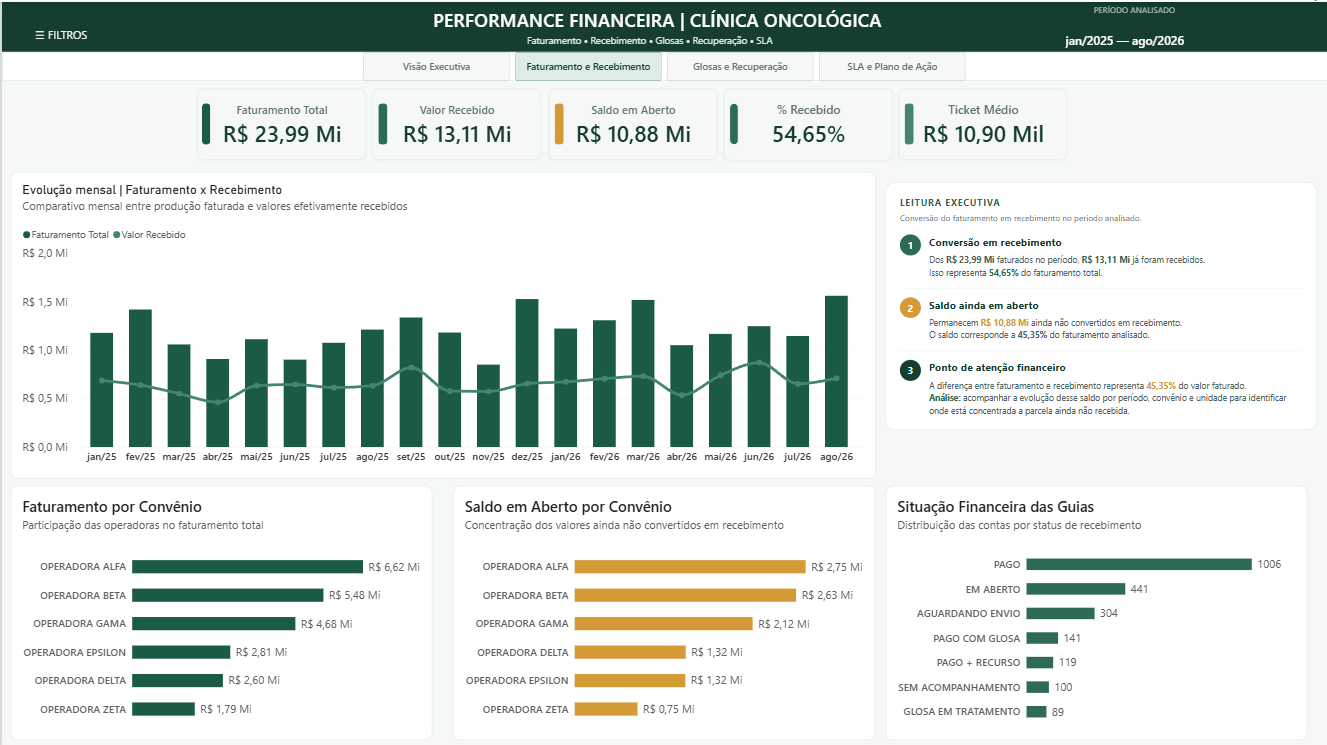

What the dashboard file says about the page in this screenshot:
{"tool":"powerbi","page":{"name":"Faturamento e Recebimento","canvas":[1920,1080],"ordinal":1},"visuals":[{"type":"shape","box":[0,0,2560,72],"z":0,"group":"g1"},{"type":"group","id":"g1","title":"Cabeçalho","box":[0,0,2560,114.4],"z":0},{"type":"cardVisual","fields":{"Data":["00_Medidas.Valor Recebido"]},"box":[536,124.2,245,105.6],"z":0,"group":"g3"},{"type":"cardVisual","fields":{"Data":["00_Medidas.Saldo em Aberto"]},"box":[789.9,124.2,245,105.6],"z":0,"group":"g4"},{"type":"cardVisual","fields":{"Data":["00_Medidas.% Recebido"]},"box":[1043.8,124.2,246.2,106.5],"z":0,"group":"g5"},{"type":"cardVisual","fields":{"Data":["00_Medidas.Ticket Médio"]},"box":[1296.9,124.2,245,105.6],"z":0,"group":"g6"},{"type":"cardVisual","fields":{"Data":["00_Medidas.Faturamento Total"]},"box":[283,125.6,245,105.6],"z":0,"group":"g2"},{"type":"textbox","box":[624.3,7.2,669.6,57.9],"z":1000,"group":"g1"},{"type":"group","id":"g2","title":"Card 1","box":[283,125.6,245,105.6],"z":1000},{"type":"shape","box":[544.5,145.3,13.4,60],"z":1000,"group":"g3"},{"type":"shape","box":[798.4,145.3,13.4,60],"z":1000,"group":"g4"},{"type":"shape","box":[1305.4,145.3,13.4,60],"z":1000,"group":"g6"},{"type":"shape","box":[1052.4,145.5,13.5,60.5],"z":1000,"group":"g5"},{"type":"shape","box":[290.8,146.7,12.2,60],"z":1000,"group":"g2"},{"type":"textbox","box":[760,45.2,399.9,43.4],"z":2000,"group":"g1"},{"type":"group","id":"g3","title":"Card 2","box":[536,124.2,245.8,105.6],"z":2000},{"type":"cardVisual","title":"PERÍODO ANALISADO","fields":{"Data":["00_Medidas.Período Selecionado"]},"box":[1524,4,232,72],"z":3000,"group":"g1"},{"type":"group","id":"g4","title":"Card 3","box":[789.9,124.2,245.8,105.6],"z":3000},{"type":"shape","box":[0,72.4,2560,42],"z":4000,"group":"g1"},{"type":"group","id":"g5","title":"Card 1","box":[1043.8,124.2,245,105.6],"z":4000},{"type":"pageNavigator","box":[523,72.4,874.1,42],"z":5000,"group":"g1"},{"type":"group","id":"g6","title":"Card 1","box":[1296.9,124.2,245,105.6],"z":5000},{"type":"lineClusteredColumnComboChart","title":"Evolução mensal | Faturamento x Recebimento","fields":{"Category":["Dim_Calendario.MesAnoCurto"],"Y":["00_Medidas.Faturamento Total"],"Y2":["00_Medidas.Valor Recebido"]},"box":[12,246,1252,444],"z":6000},{"type":"clusteredBarChart","title":"Faturamento por Convênio","fields":{"Category":["base_analitica_oncologia.NM_CONVENIO_PADRAO"],"Y":["00_Medidas.Faturamento Total"]},"box":[12,700,610,368],"z":7000},{"type":"clusteredBarChart","title":"Saldo em Aberto por Convênio","fields":{"Category":["base_analitica_oncologia.NM_CONVENIO_PADRAO"],"Y":["00_Medidas.Saldo em Aberto"]},"box":[654,700,610,368],"z":8000},{"type":"clusteredBarChart","title":"Situação Financeira das Guias","fields":{"Category":["base_analitica_oncologia.STATUS_FINANCEIRO"],"Y":["Count(base_analitica_oncologia.NR_GUIA)"]},"box":[1280,700,610,368],"z":9000},{"type":"htmlContent443BE3AD55E043BF878BED274D3A6855","fields":{"content":["00_Medidas.HTML_Analise_Faturamento_Recebimento"]},"box":[1264,246,656,444],"z":10000},{"type":"actionButton","box":[24,18,124,58],"z":11000}]}

Visuals, with their boxes in screenshot pixels (x1, y1, x2, y2), scaled from the page's 1920x1080 canvas onto the 1327x745 screenshot:
shape: [left=0, top=0, right=1326, bottom=50]
"Cabeçalho" group: [left=0, top=0, right=1326, bottom=79]
cardVisual - 00_Medidas.Valor Recebido: [left=370, top=86, right=540, bottom=159]
cardVisual - 00_Medidas.Saldo em Aberto: [left=546, top=86, right=715, bottom=159]
cardVisual - 00_Medidas.% Recebido: [left=721, top=86, right=892, bottom=159]
cardVisual - 00_Medidas.Ticket Médio: [left=896, top=86, right=1066, bottom=159]
cardVisual - 00_Medidas.Faturamento Total: [left=196, top=87, right=365, bottom=159]
textbox: [left=431, top=5, right=894, bottom=45]
"Card 1" group: [left=196, top=87, right=365, bottom=159]
shape: [left=376, top=100, right=386, bottom=142]
shape: [left=552, top=100, right=561, bottom=142]
shape: [left=902, top=100, right=911, bottom=142]
shape: [left=727, top=100, right=737, bottom=142]
shape: [left=201, top=101, right=209, bottom=143]
textbox: [left=525, top=31, right=802, bottom=61]
"Card 2" group: [left=370, top=86, right=540, bottom=159]
"PERÍODO ANALISADO" cardVisual: [left=1053, top=3, right=1214, bottom=52]
"Card 3" group: [left=546, top=86, right=716, bottom=159]
shape: [left=0, top=50, right=1326, bottom=79]
"Card 1" group: [left=721, top=86, right=891, bottom=159]
pageNavigator: [left=361, top=50, right=966, bottom=79]
"Card 1" group: [left=896, top=86, right=1066, bottom=159]
"Evolução mensal | Faturamento x Recebimento" lineClusteredColumnComboChart: [left=8, top=170, right=874, bottom=476]
"Faturamento por Convênio" clusteredBarChart: [left=8, top=483, right=430, bottom=737]
"Saldo em Aberto por Convênio" clusteredBarChart: [left=452, top=483, right=874, bottom=737]
"Situação Financeira das Guias" clusteredBarChart: [left=885, top=483, right=1306, bottom=737]
htmlContent443BE3AD55E043BF878BED274D3A6855 - 00_Medidas.HTML_Analise_Faturamento_Recebimento: [left=874, top=170, right=1326, bottom=476]
actionButton: [left=17, top=12, right=102, bottom=52]
